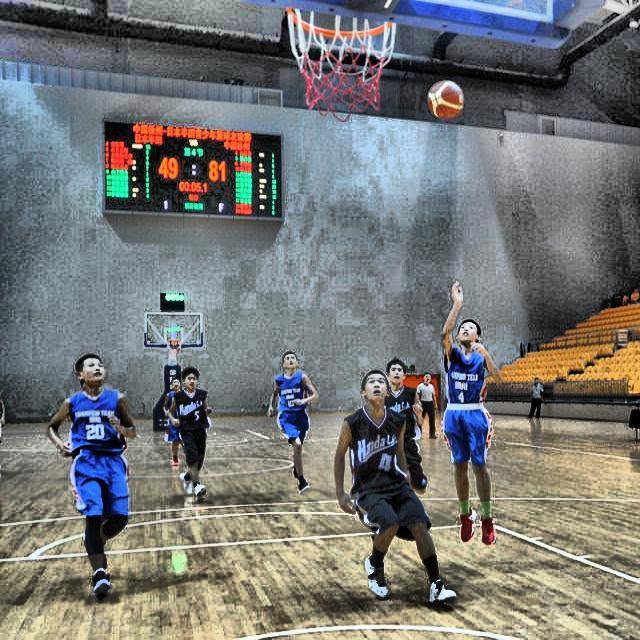board: (428, 80, 464, 118)
rim: (286, 7, 398, 122)
